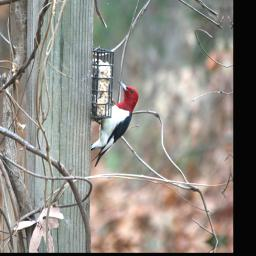Woodpecker: (83, 76, 146, 171)
